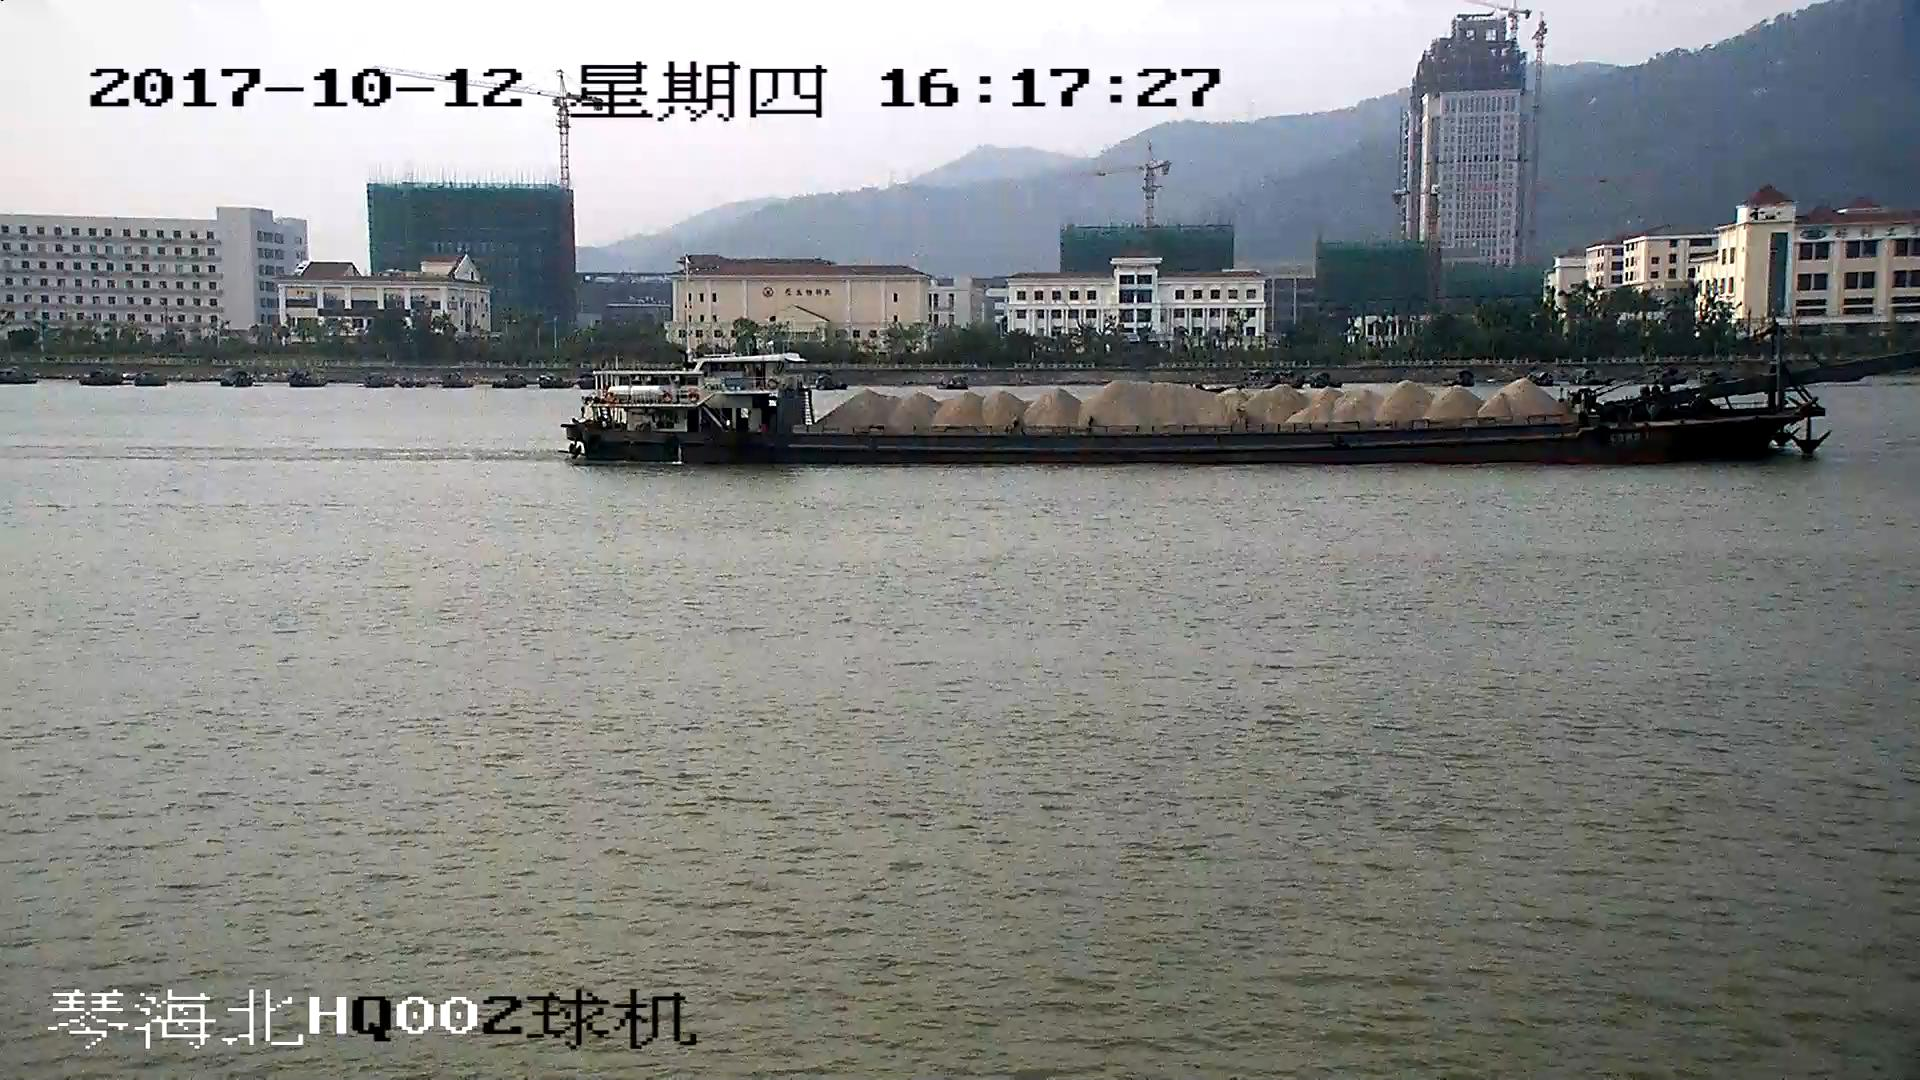ore carrier: (572, 320, 1920, 462)
